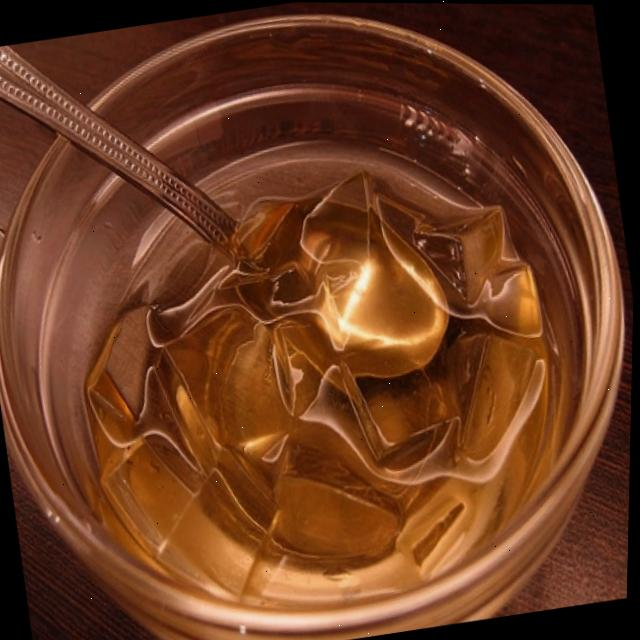蛋糕甜品: (0, 24, 623, 640)
